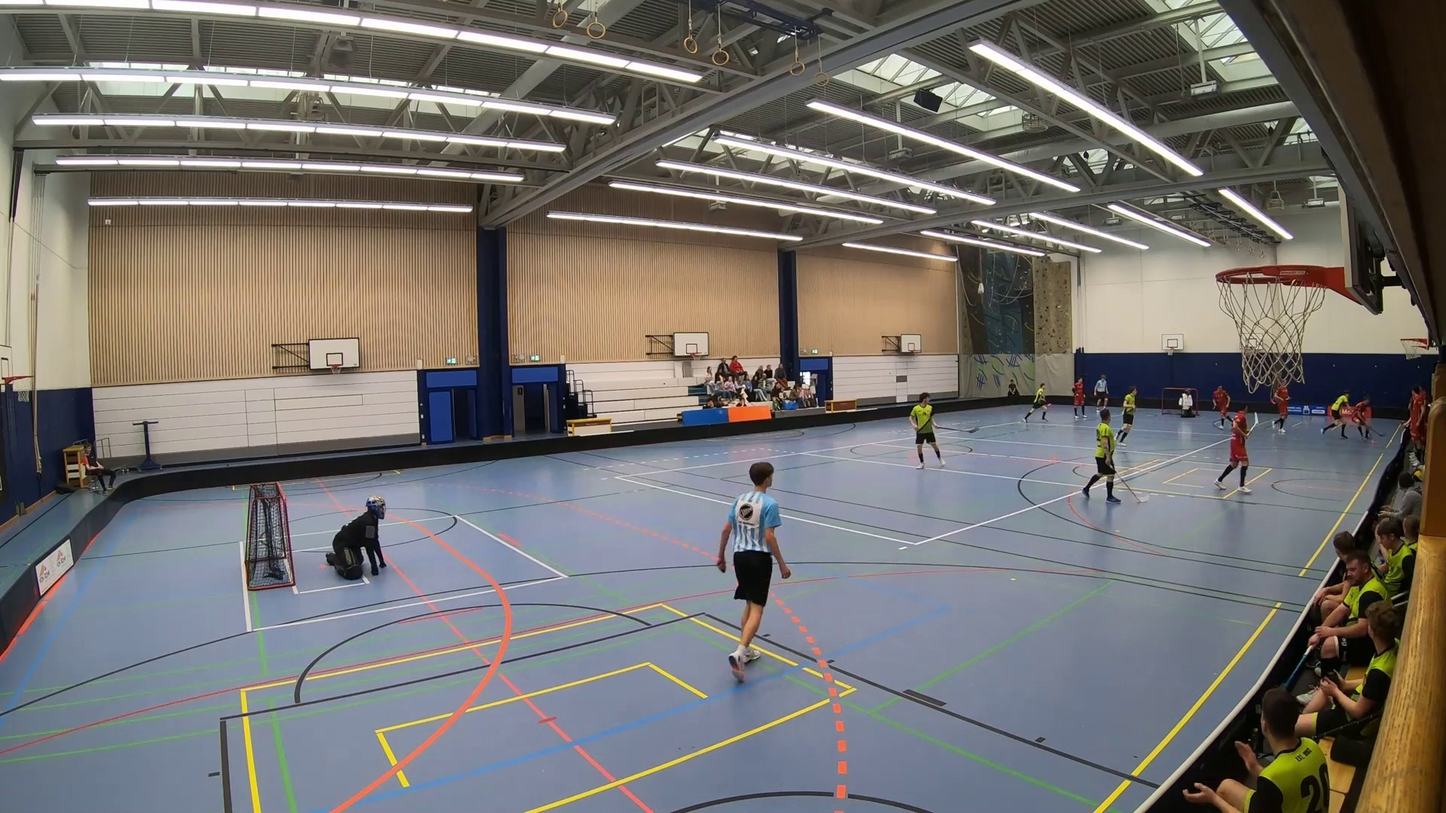Schiri: (706, 416, 789, 679), (1092, 372, 1108, 411)
ball: (1388, 438, 1394, 446)
goalkeeper: (325, 495, 386, 580), (1177, 391, 1194, 416)
player: (1082, 407, 1120, 503), (1214, 410, 1249, 494), (909, 392, 942, 468), (1321, 391, 1348, 437), (1118, 385, 1136, 446), (1350, 396, 1373, 442), (1271, 379, 1289, 433), (1023, 383, 1048, 420), (1212, 385, 1229, 429), (1073, 377, 1084, 418)
